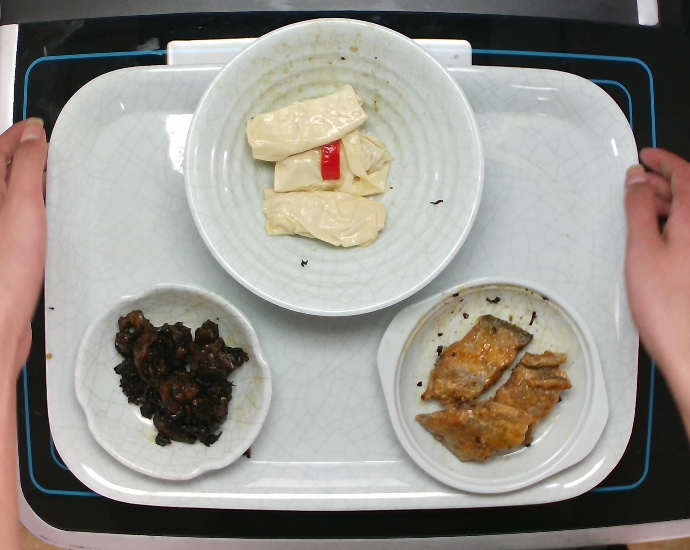JYsf-Ao_Yuan_Wan: (67, 276, 276, 490)
JYsf-Shuang_Er_Pan: (371, 274, 612, 501)
JYsf-Xiao_Tang_Wan: (179, 12, 484, 321)
